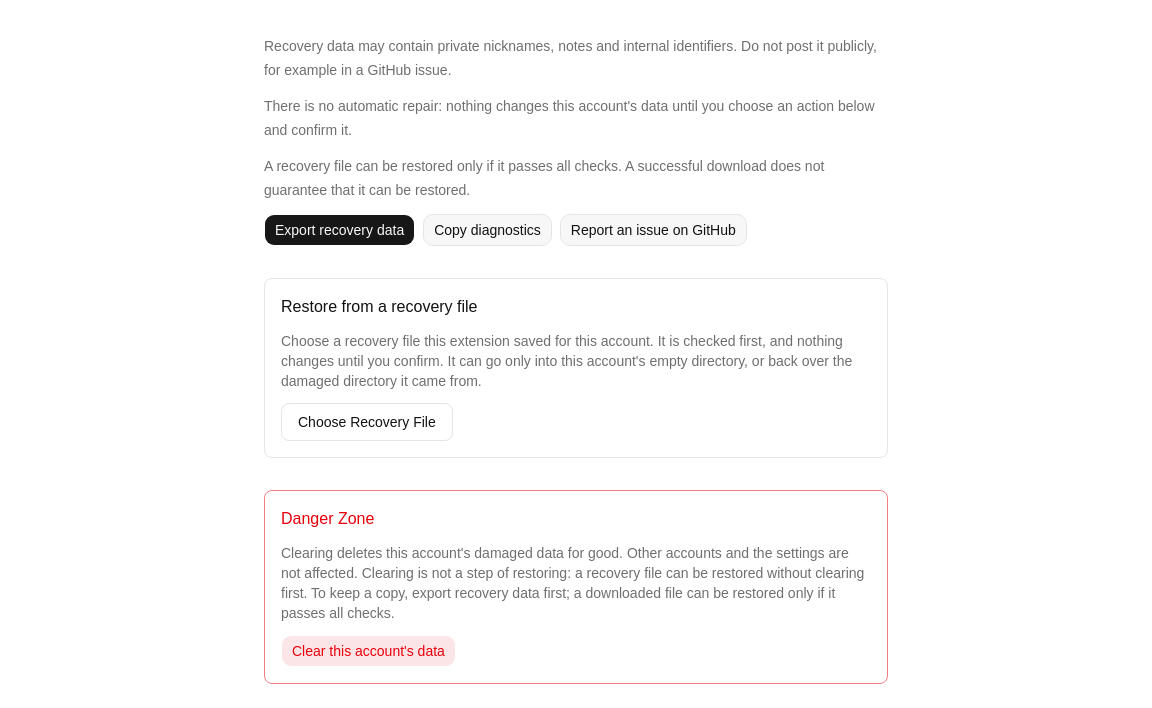
Scenario: RecoveryPage: clearing the account's data › asks first, says it cannot be undone, and does nothing until it is confirmed
(page scrolled)
Click the button "Clear this account's data": (368, 651) top-left (281, 635), bottom-right (456, 667)
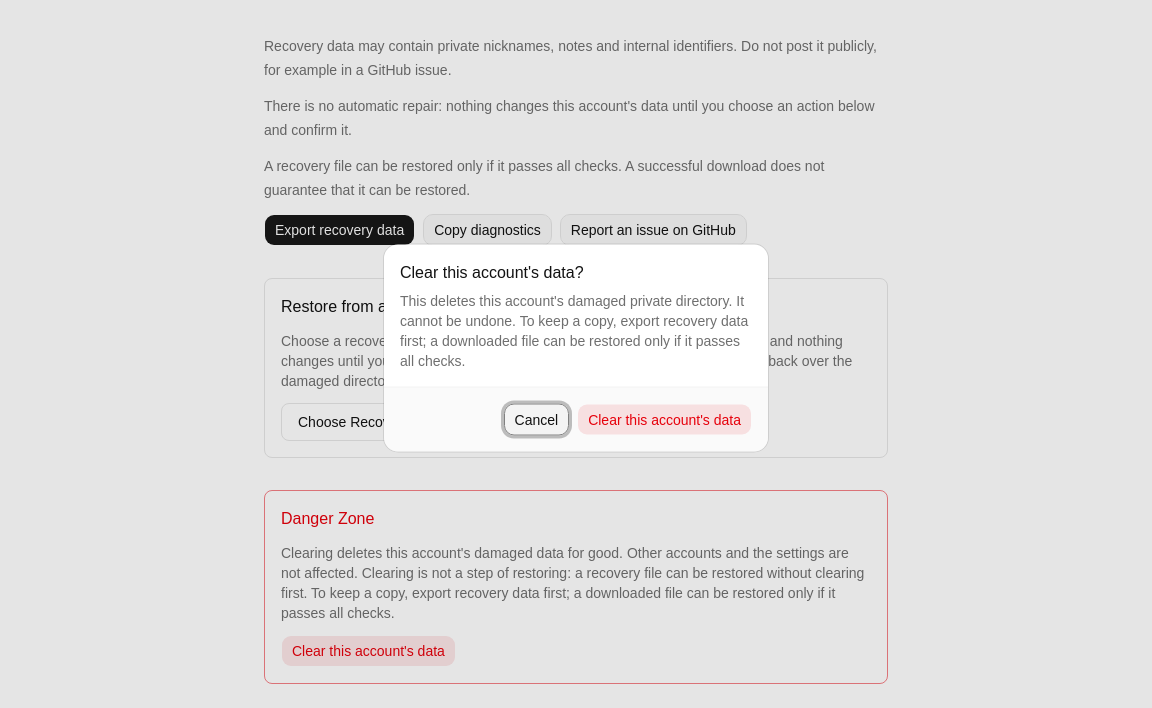
Expected: the heading "Clear this account's data?" is shown, top-left (400, 260), bottom-right (584, 284)
Expected: the text "This deletes this account's damaged private directory. It cannot be undone. To keep a copy, export recovery data first; " is shown, top-left (400, 292), bottom-right (748, 368)
